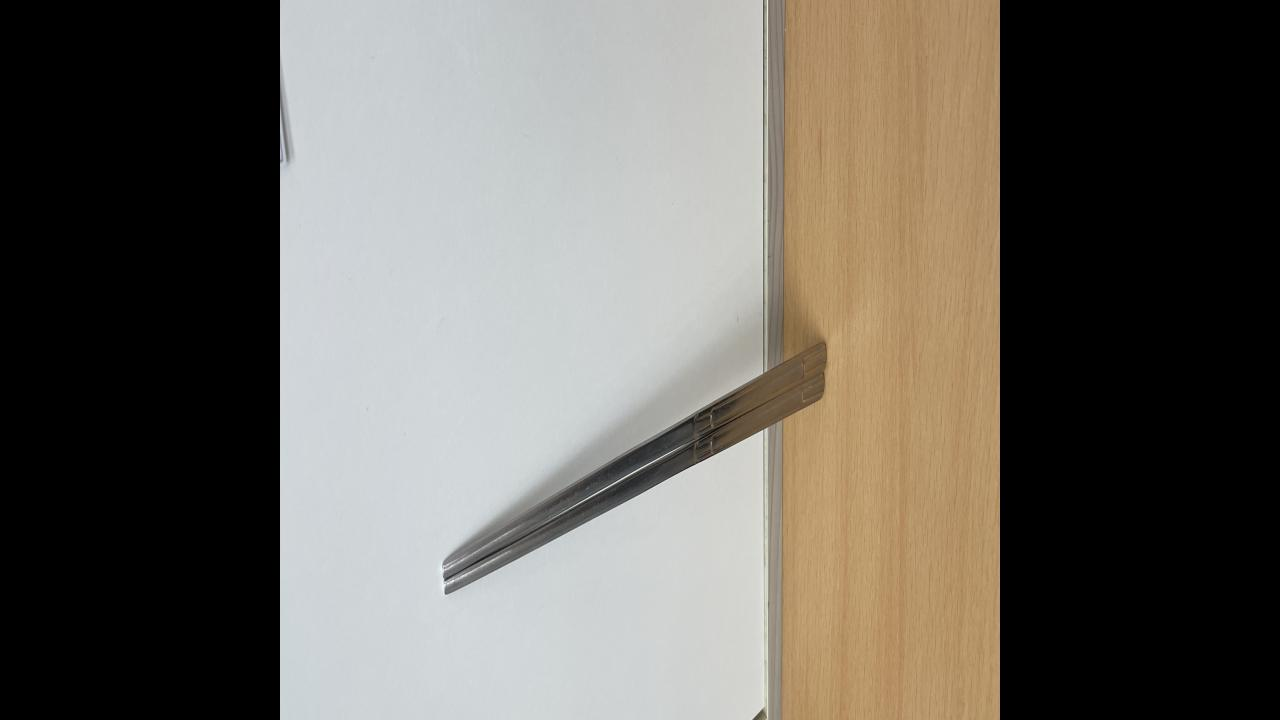chopstick: (444, 334, 828, 590)
